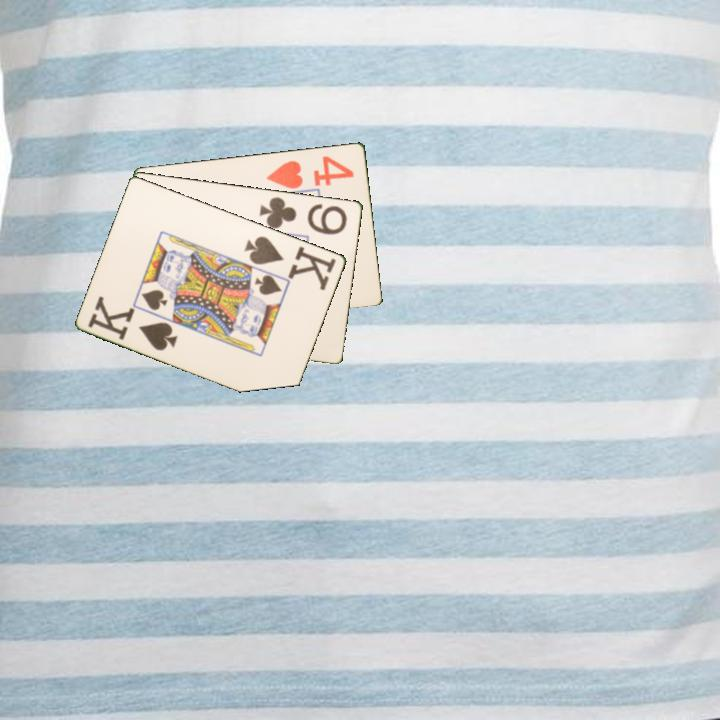4h: (263, 152, 357, 191)
9c: (256, 193, 350, 237)
Ks: (241, 232, 339, 293), (84, 293, 181, 354)
